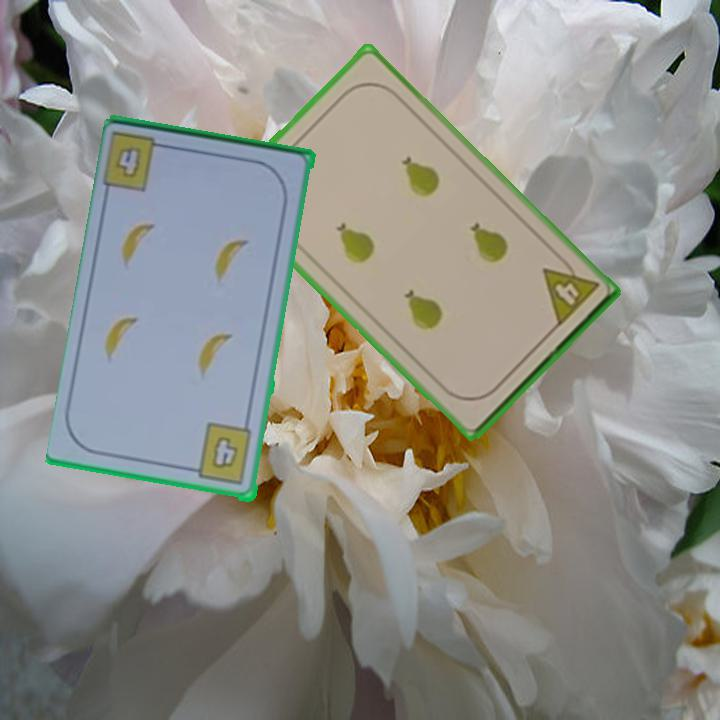4b: (102, 128, 175, 196), (186, 421, 256, 489)
4p: (538, 251, 602, 330)
